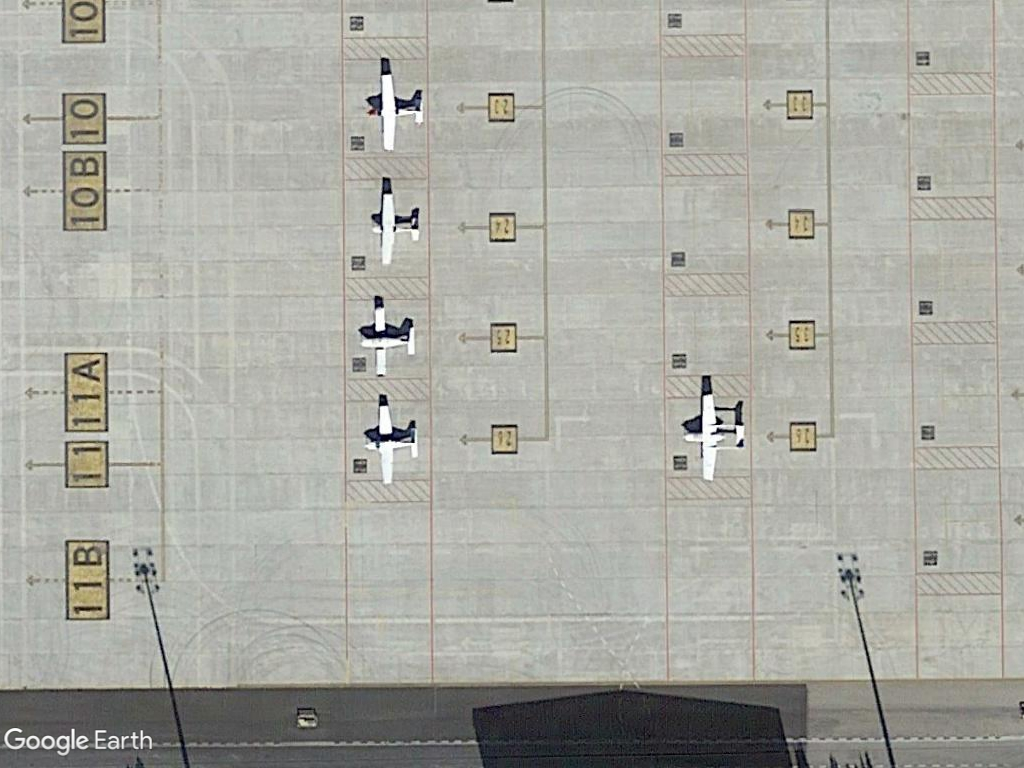trainer: (358, 187, 426, 273), (359, 400, 423, 490), (361, 71, 428, 152), (357, 300, 416, 379)
